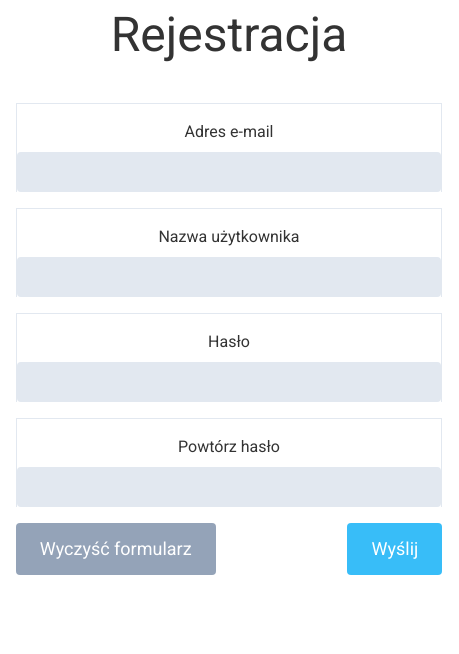
Test: Register › should display error when email is not valid
The image size is (459, 654).
Type "test@email" into the field labelled "Adres e-mail" at (229, 172), box [17,152,441,192]
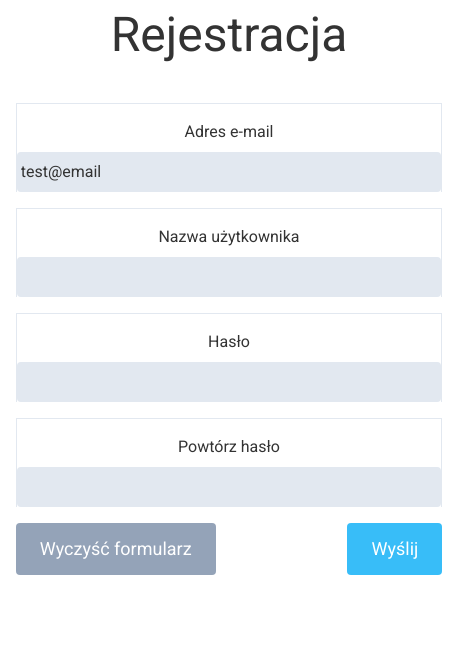
Type "username" into the field labelled "Nazwa użytkownika" at (229, 277), box [17,257,441,297]
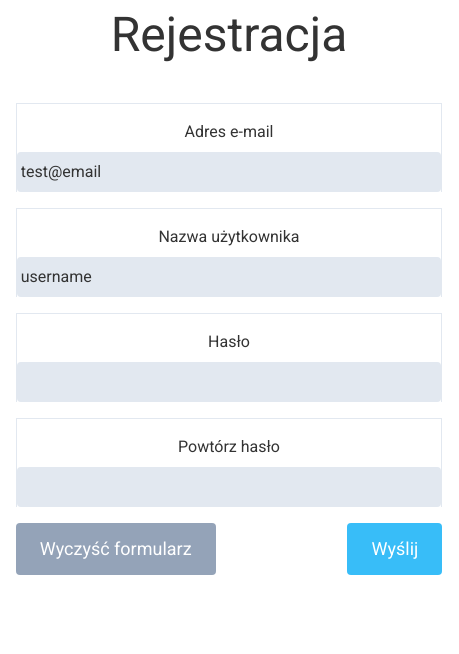
Type "password" into the password field labelled "Hasło" at (229, 382), box [17,362,441,402]
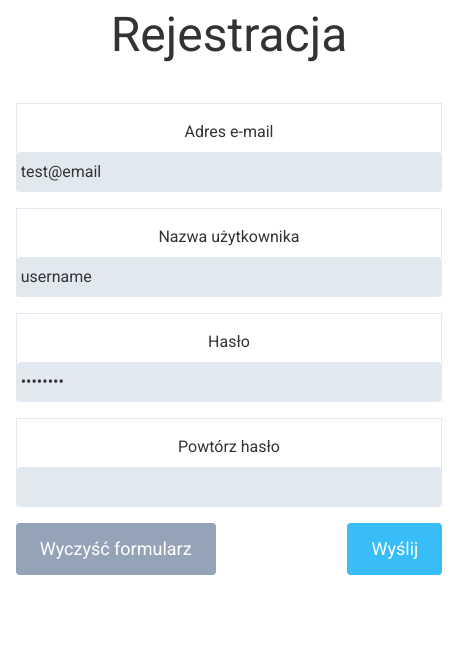
Type "password" into the password field labelled "Powtórz hasło" at (229, 487), box [17,467,441,507]
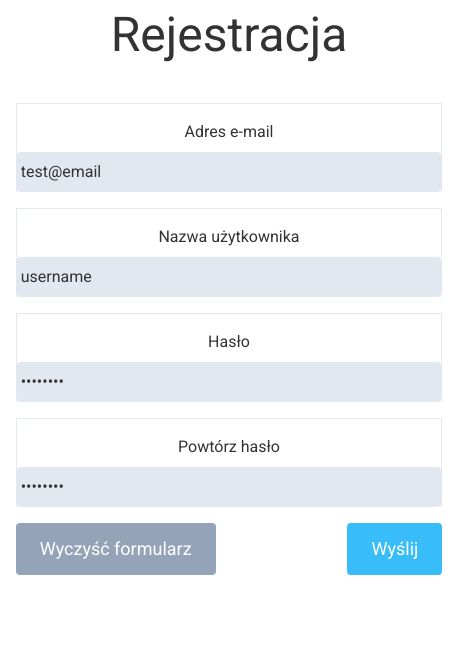
Click the button "Wyślij" at (395, 549), box [348,523,442,575]
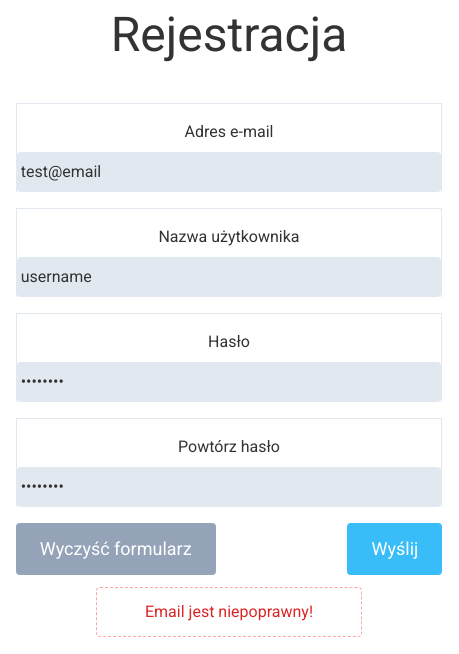
Check: the text "Email jest niepoprawny!" is shown, box [96,587,362,637]
